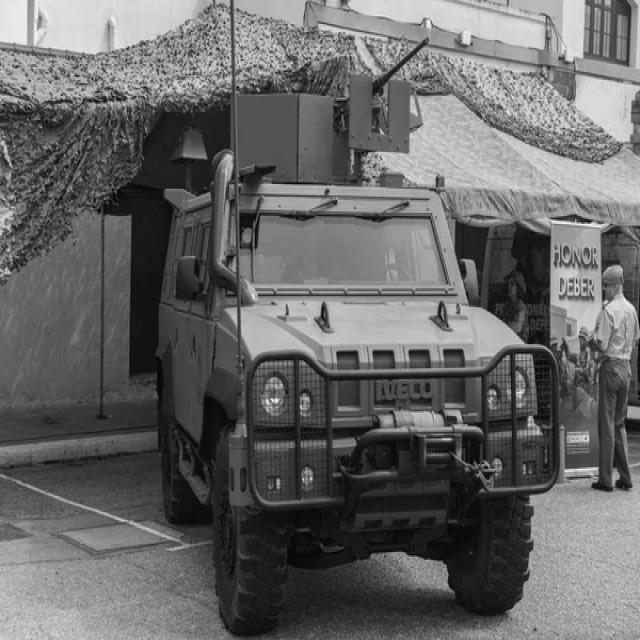Car: (156, 93, 562, 634)
